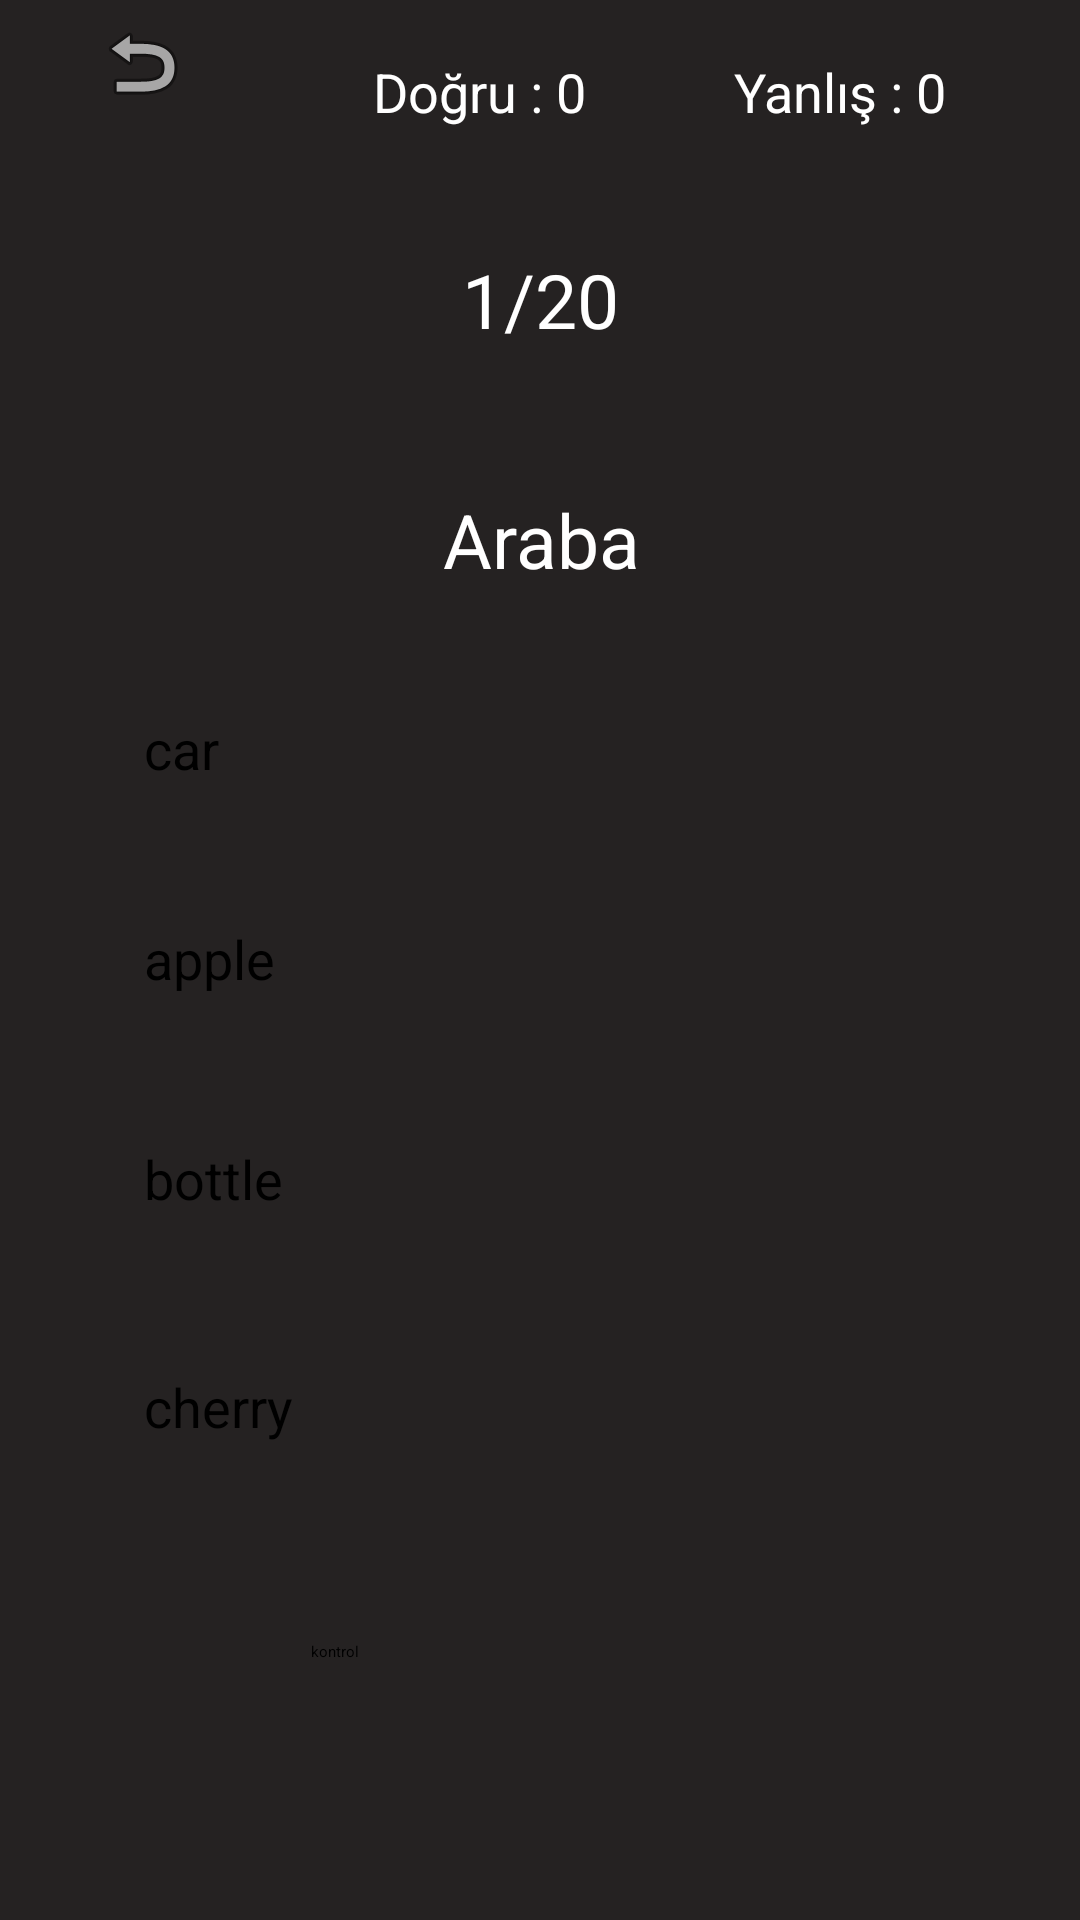

Named icons in this screenshot (1080 x 1920) and their bounding boxes, (x1, y1, x2, y2):
revert: (112, 35, 175, 92)
